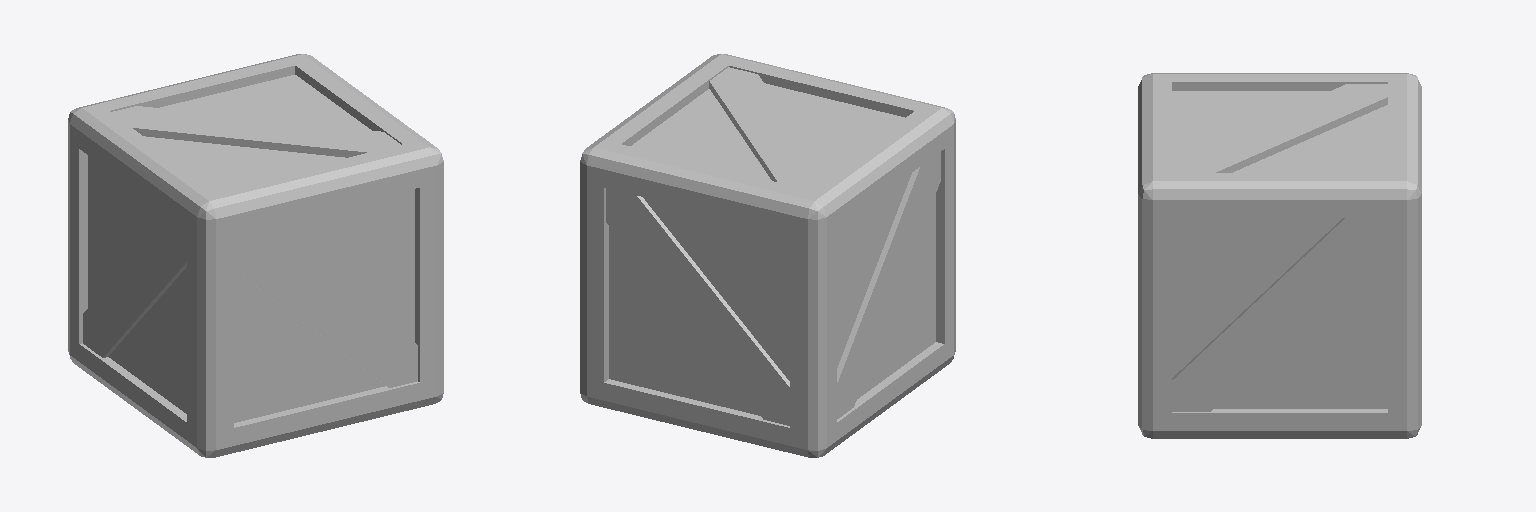
Rendered from crate_1.obj.
3 renders of one model, left to right at view 1: azimuth 30°, elevation 25°; view 2: azimuth 150°, elevation 25°; view 3: azimuth 270°, elevation 25°, orthographic.
Visible parts, largest first — view 1: cratesmall_crates_0; view 2: cratesmall_crates_0; view 3: cratesmall_crates_0.
Part boxes in pixels (x1,y1,x2,y2): cratesmall_crates_0: (68, 54, 443, 457); cratesmall_crates_0: (580, 54, 955, 457); cratesmall_crates_0: (1138, 73, 1421, 438).
Bounding box in the file's own units: 9.19 × 9.19 × 9.19.